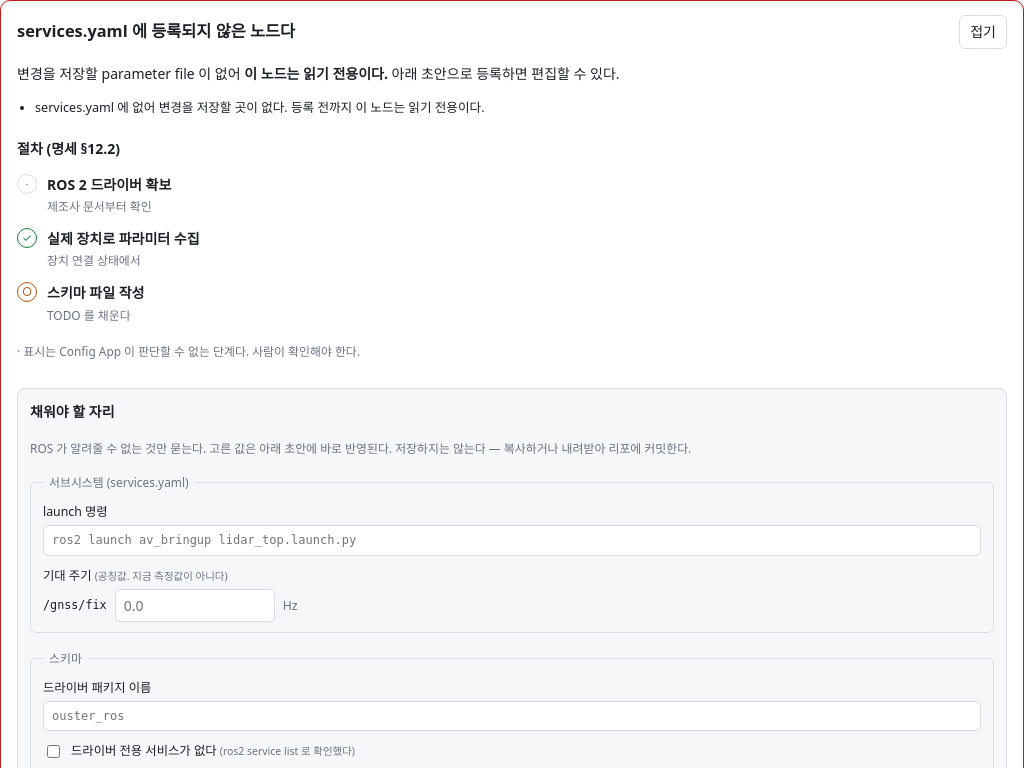
Test: OnboardingPanel › 접기 버튼으로 초안을 숨긴다
Click the button "접기" at [983, 32], box [959,15,1007,49]
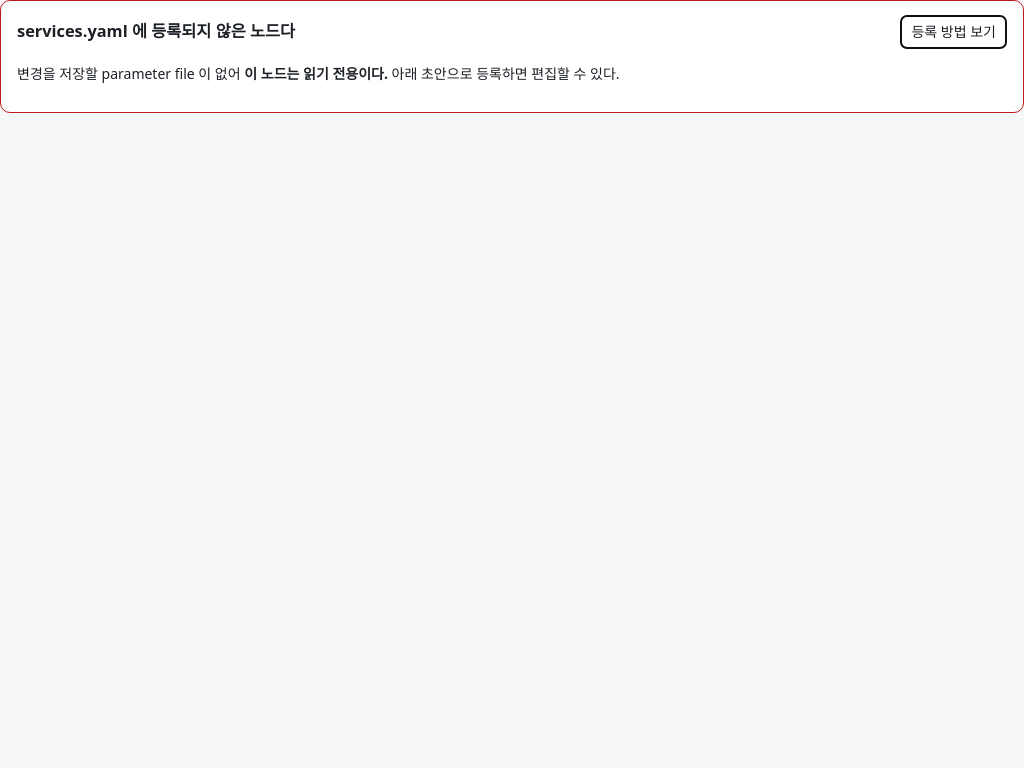
Result: the button "등록 방법 보기" is shown at [900,15,1007,49]
